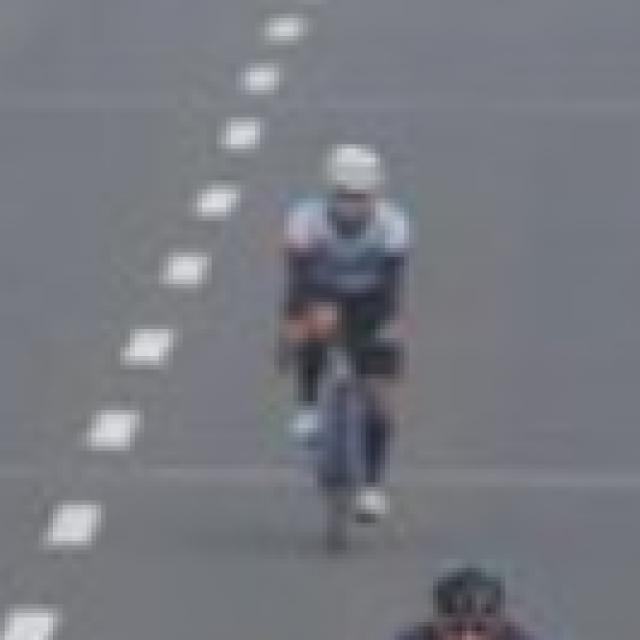car: (250, 291, 438, 560)
